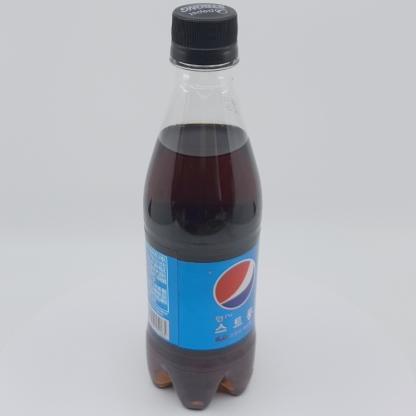-------400ML: (143, 3, 262, 411)
